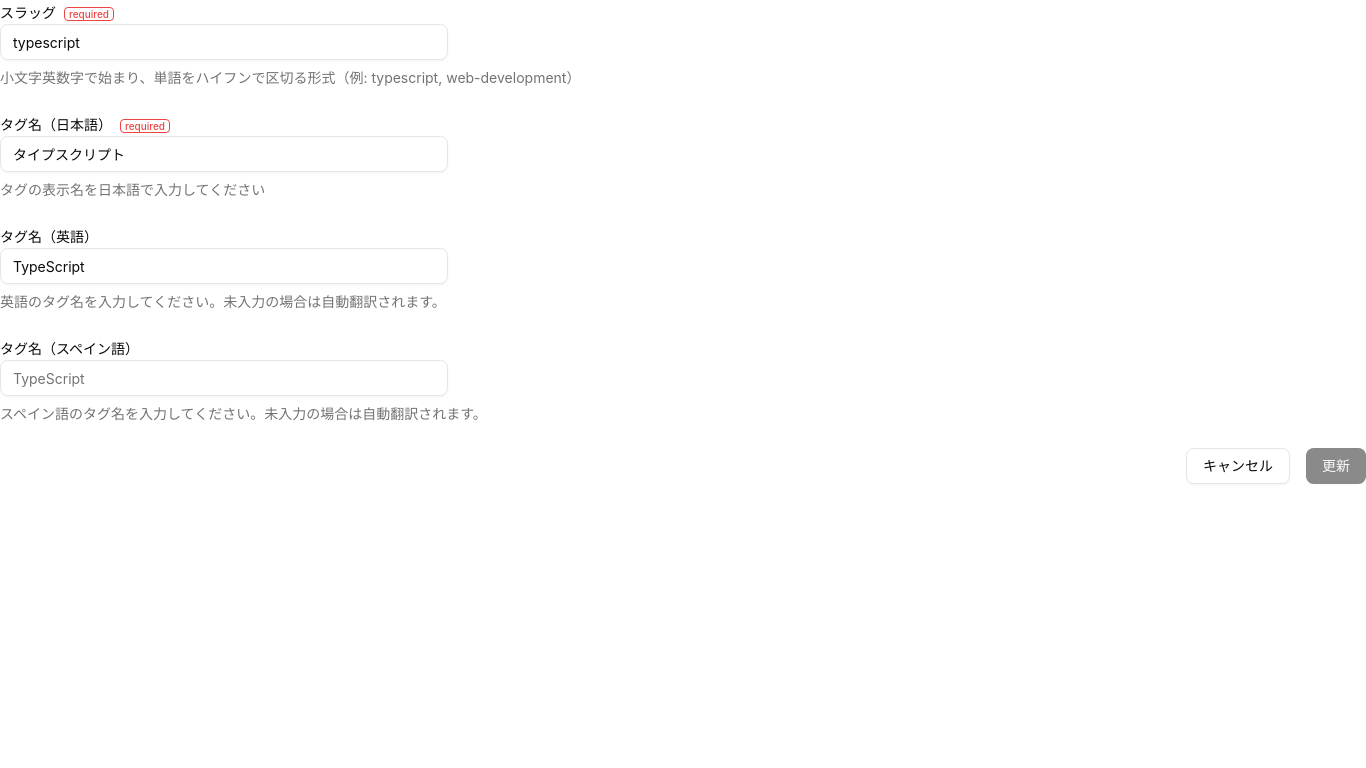
Test: TagUpdateForm › Integration Test › 未保存変更アラート › アラートダイアログで「キャンセル」をクリックするとフォームに戻る
The image size is (1366, 768).
Type "変更されたタグ名" into the field with placeholder "タイプスクリプト" at (224, 154), box [0,136,448,172]
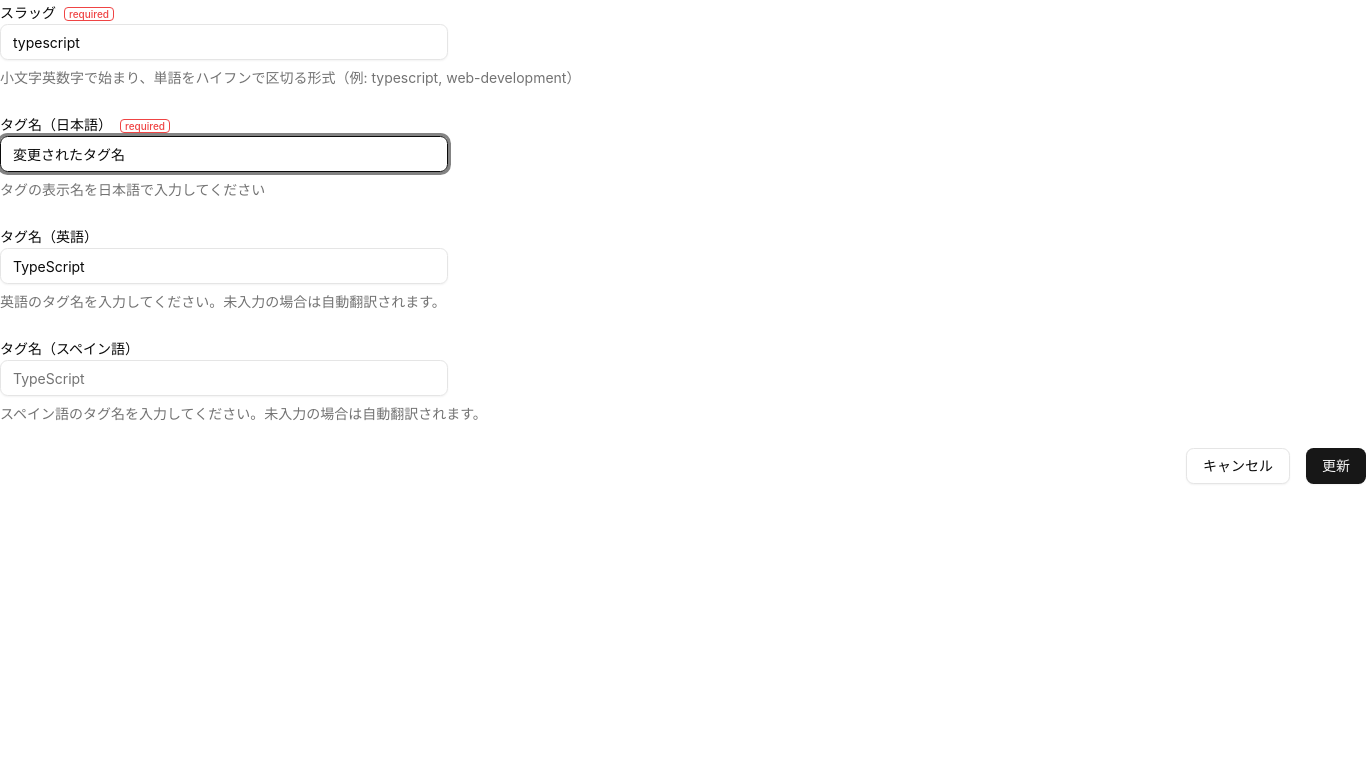
Click the button "キャンセル" at (1238, 466), box [1186,448,1290,484]
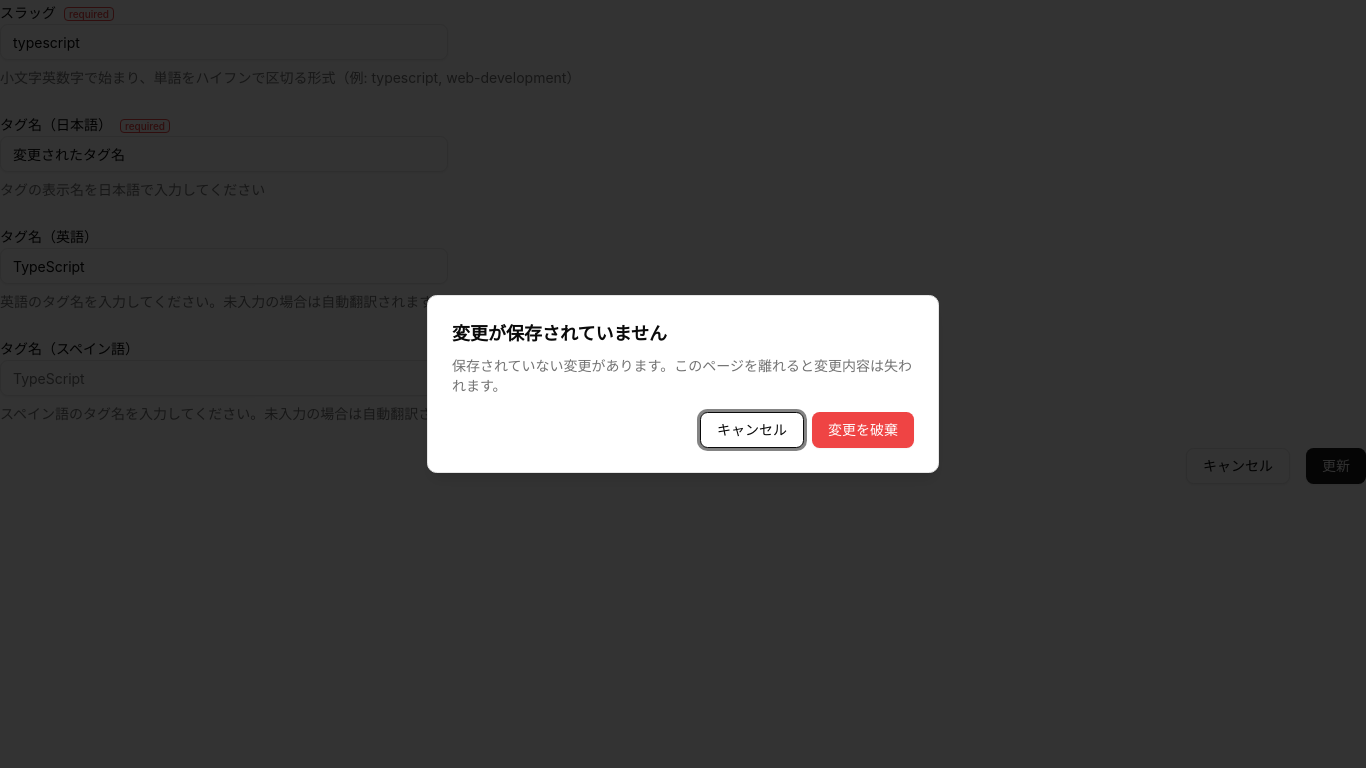
Check: the heading "変更が保存されていません" is shown, box [452,323,667,344]
Click the button "キャンセル" at (752, 430), box [700,412,804,448]
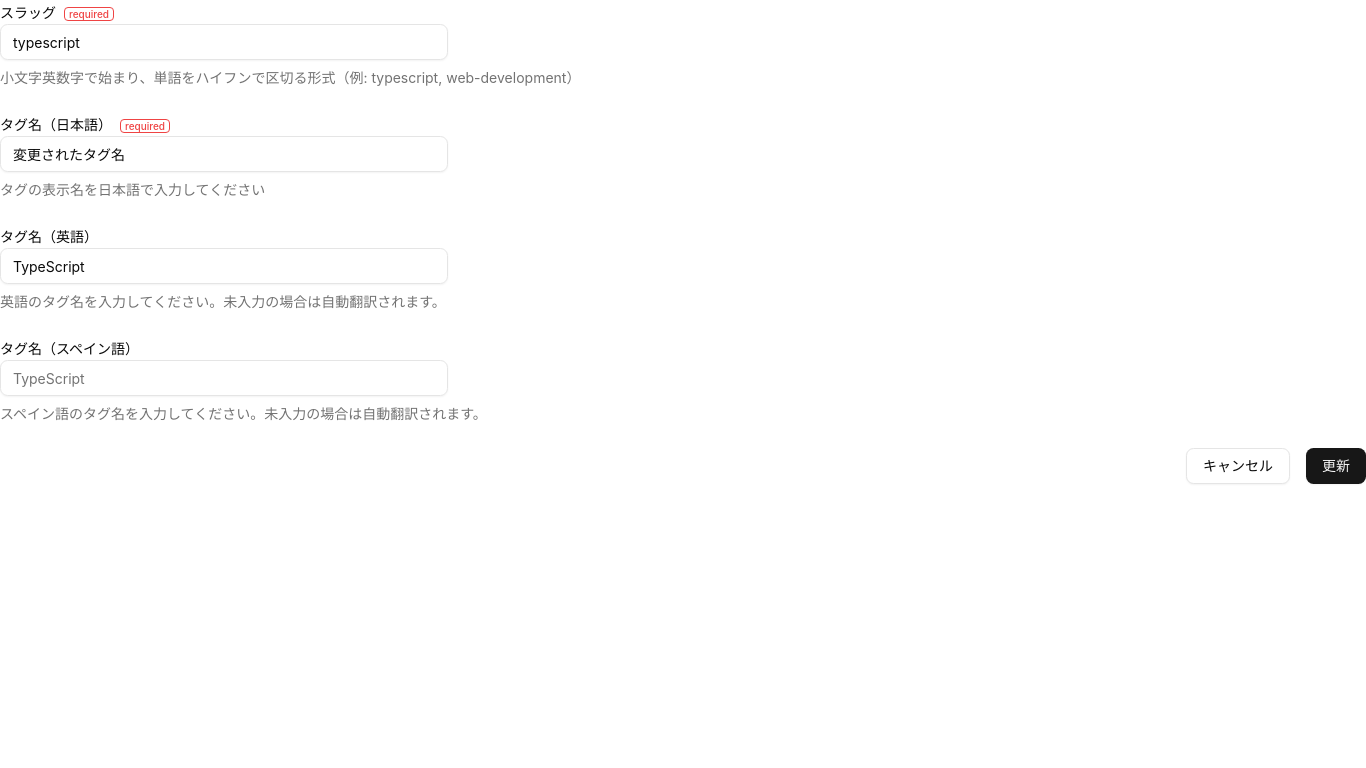
Check: the heading "変更が保存されていません" is gone
